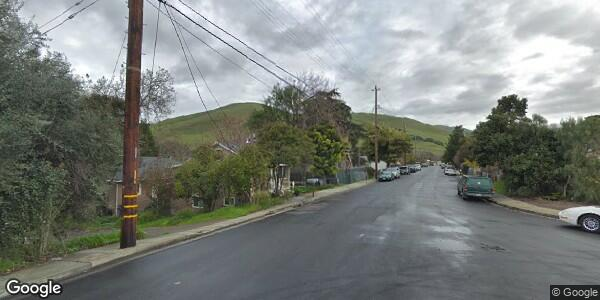Wood_Pole: (115, 1, 158, 249), (368, 83, 381, 177)
